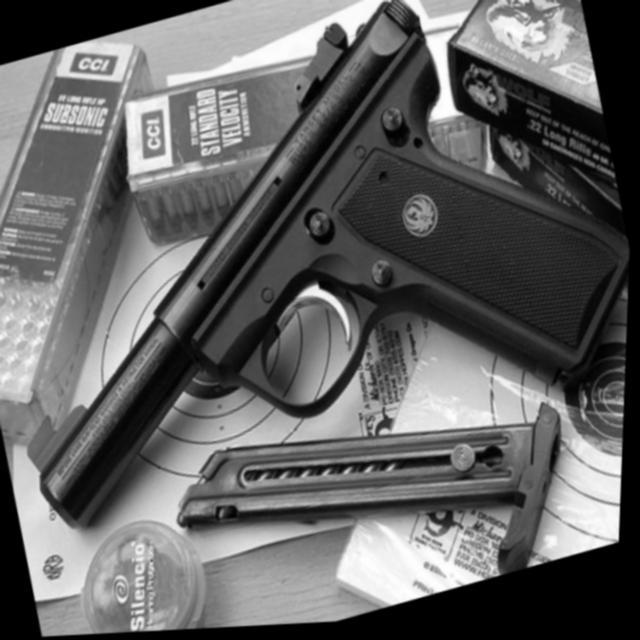weapon: (0, 0, 640, 546), (160, 356, 597, 632)
